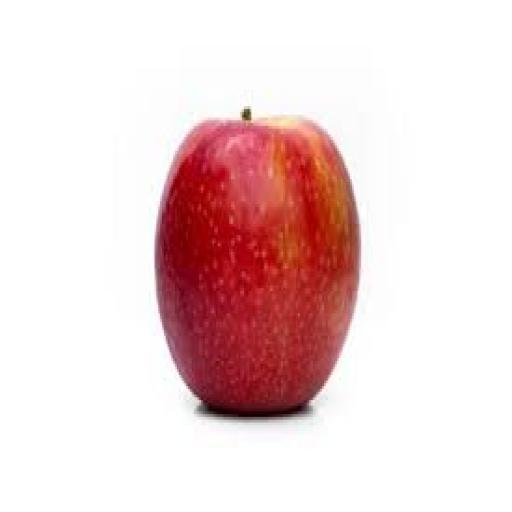apple: (157, 112, 359, 414)
